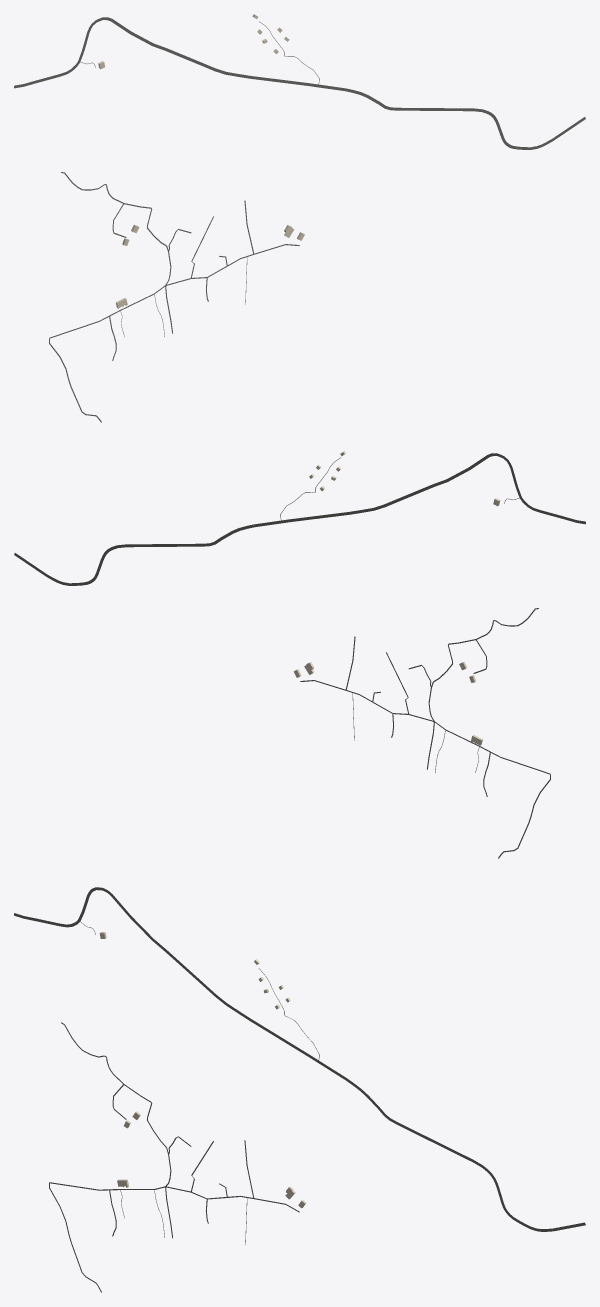
File: historic-palestine-09_25_3512_3197.glb
The picture shows the model from 3 angles, top to bottom: view 1: azimuth 30°, elevation 25°; view 2: azimuth 150°, elevation 25°; view 3: azimuth 330°, elevation 25°; orthographic projection.
Parts seen in each view (by area): view 1: Road 450; view 2: Road 450; view 3: Road 450.
Boxes of the visible parts, box(x1,y1,x2,y2) form: Road 450: box(14, 17, 585, 149); Road 450: box(14, 453, 585, 585); Road 450: box(14, 887, 585, 1231).
Size of the model in its own units: 1725 by 1168 by 8.7.
